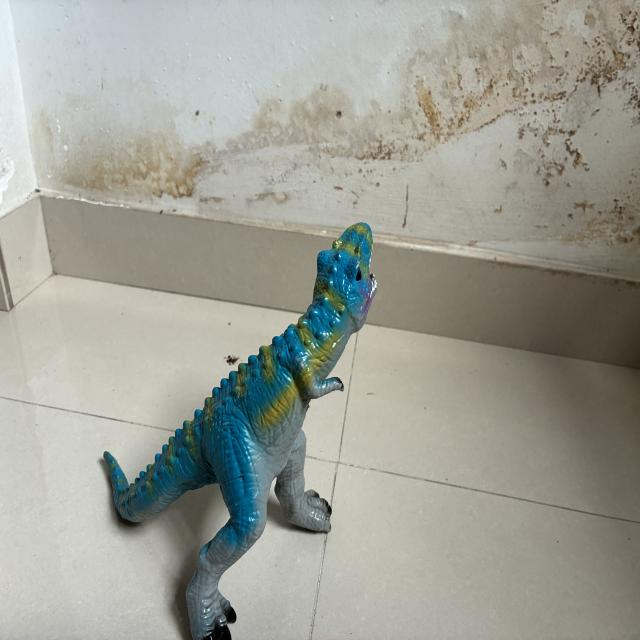dinosaur: (104, 223, 376, 640)
